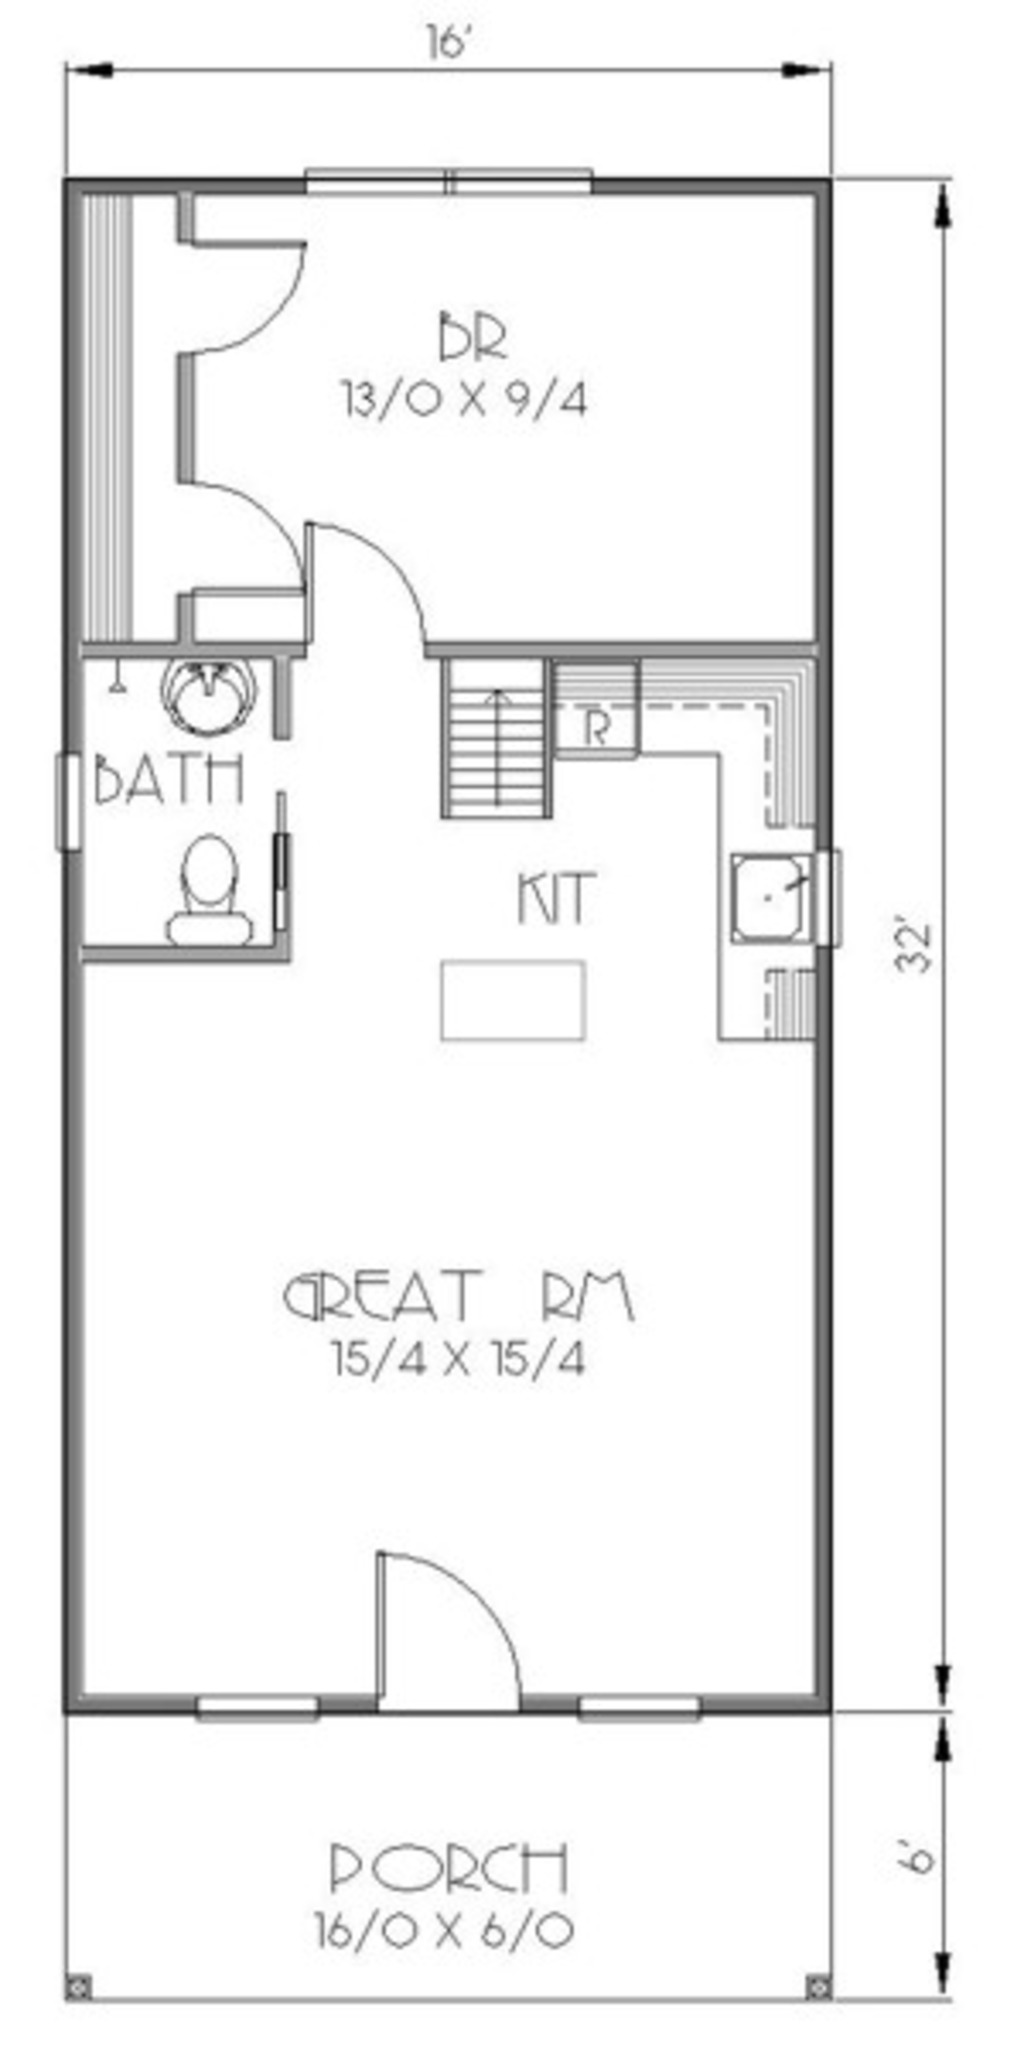door: (360, 1548, 529, 1748), (300, 533, 444, 664), (188, 473, 310, 611), (191, 223, 307, 364)
large_sink: (159, 823, 266, 948)
sink: (688, 814, 866, 955)
small_sink: (135, 643, 276, 744)
stairs: (413, 639, 563, 839)
window: (296, 155, 590, 214), (182, 1689, 327, 1731), (572, 1695, 713, 1723), (63, 755, 85, 872)
